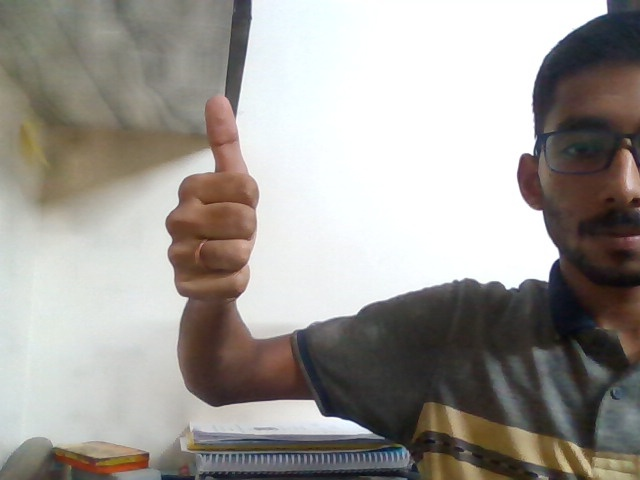Yes: (143, 74, 276, 352)
